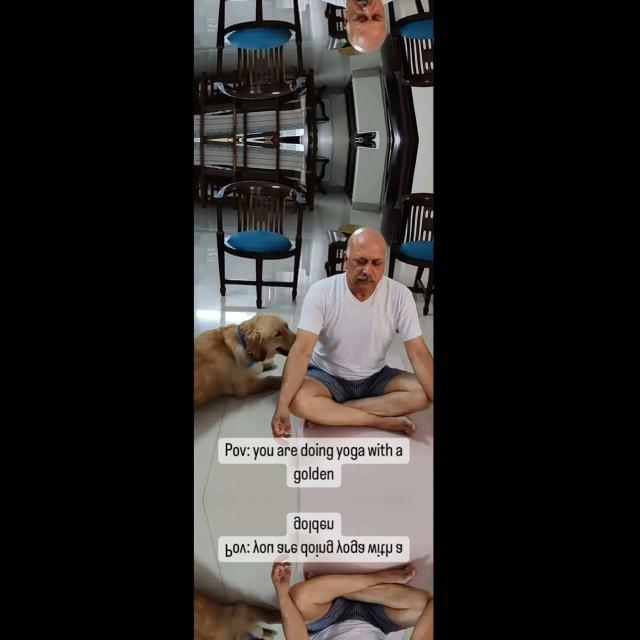person: (286, 225, 436, 429), (286, 571, 436, 640), (286, 0, 436, 55)
